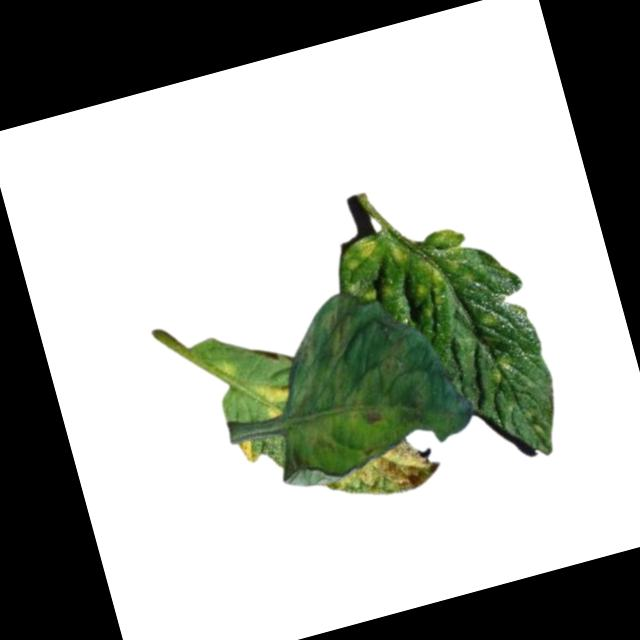Leaf_Mold: (319, 435, 443, 514), (359, 302, 423, 387), (312, 298, 360, 361), (249, 378, 296, 423), (337, 235, 384, 278), (354, 406, 384, 435), (386, 238, 414, 268), (236, 438, 264, 466)
